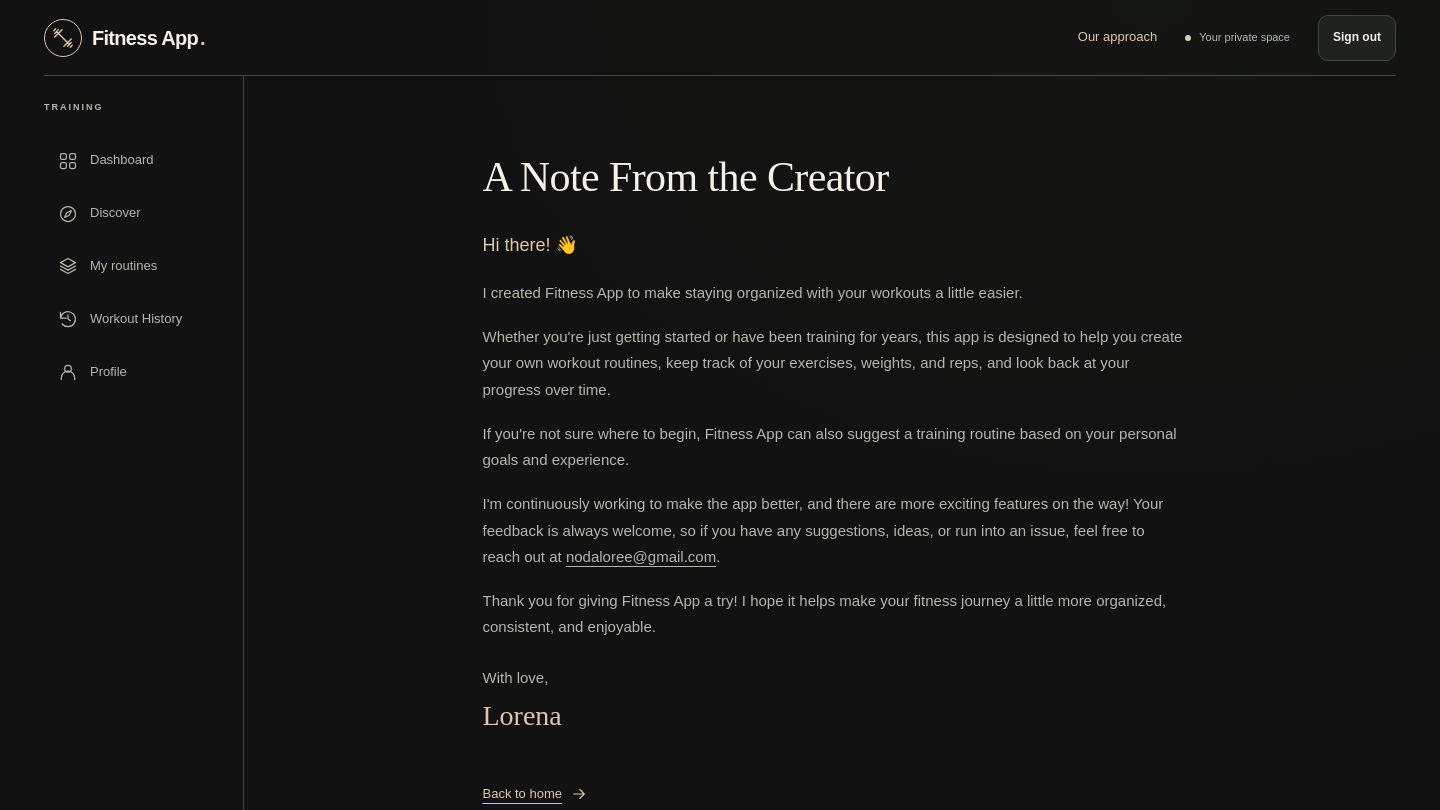
Scenario: the brand returns to home with signed-in state true
Click the link with aria-label "Fitness App home": coordinates (124, 38) [44, 18, 205, 56]
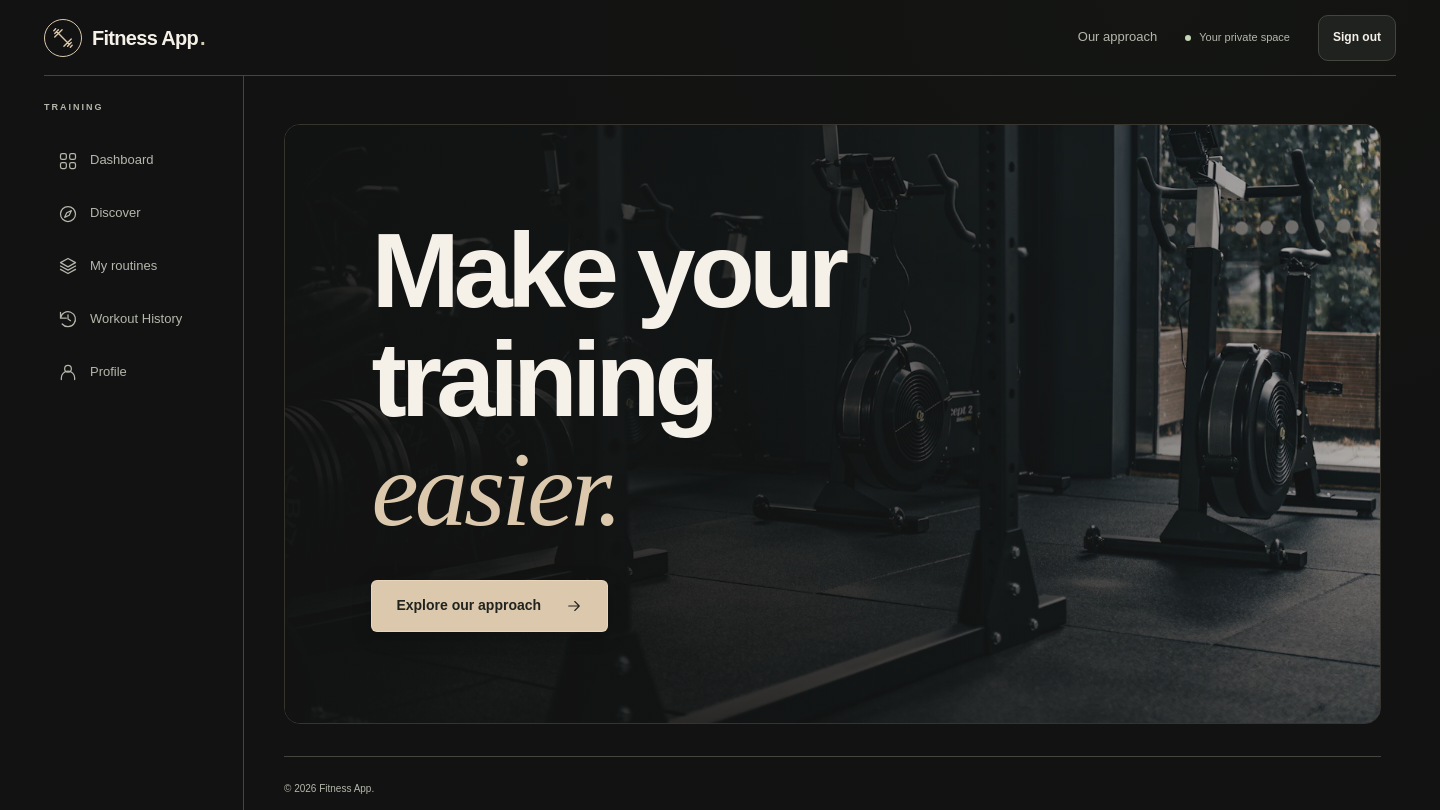
Expected: the heading reads "Make your training easier.", [371, 211, 843, 548]
